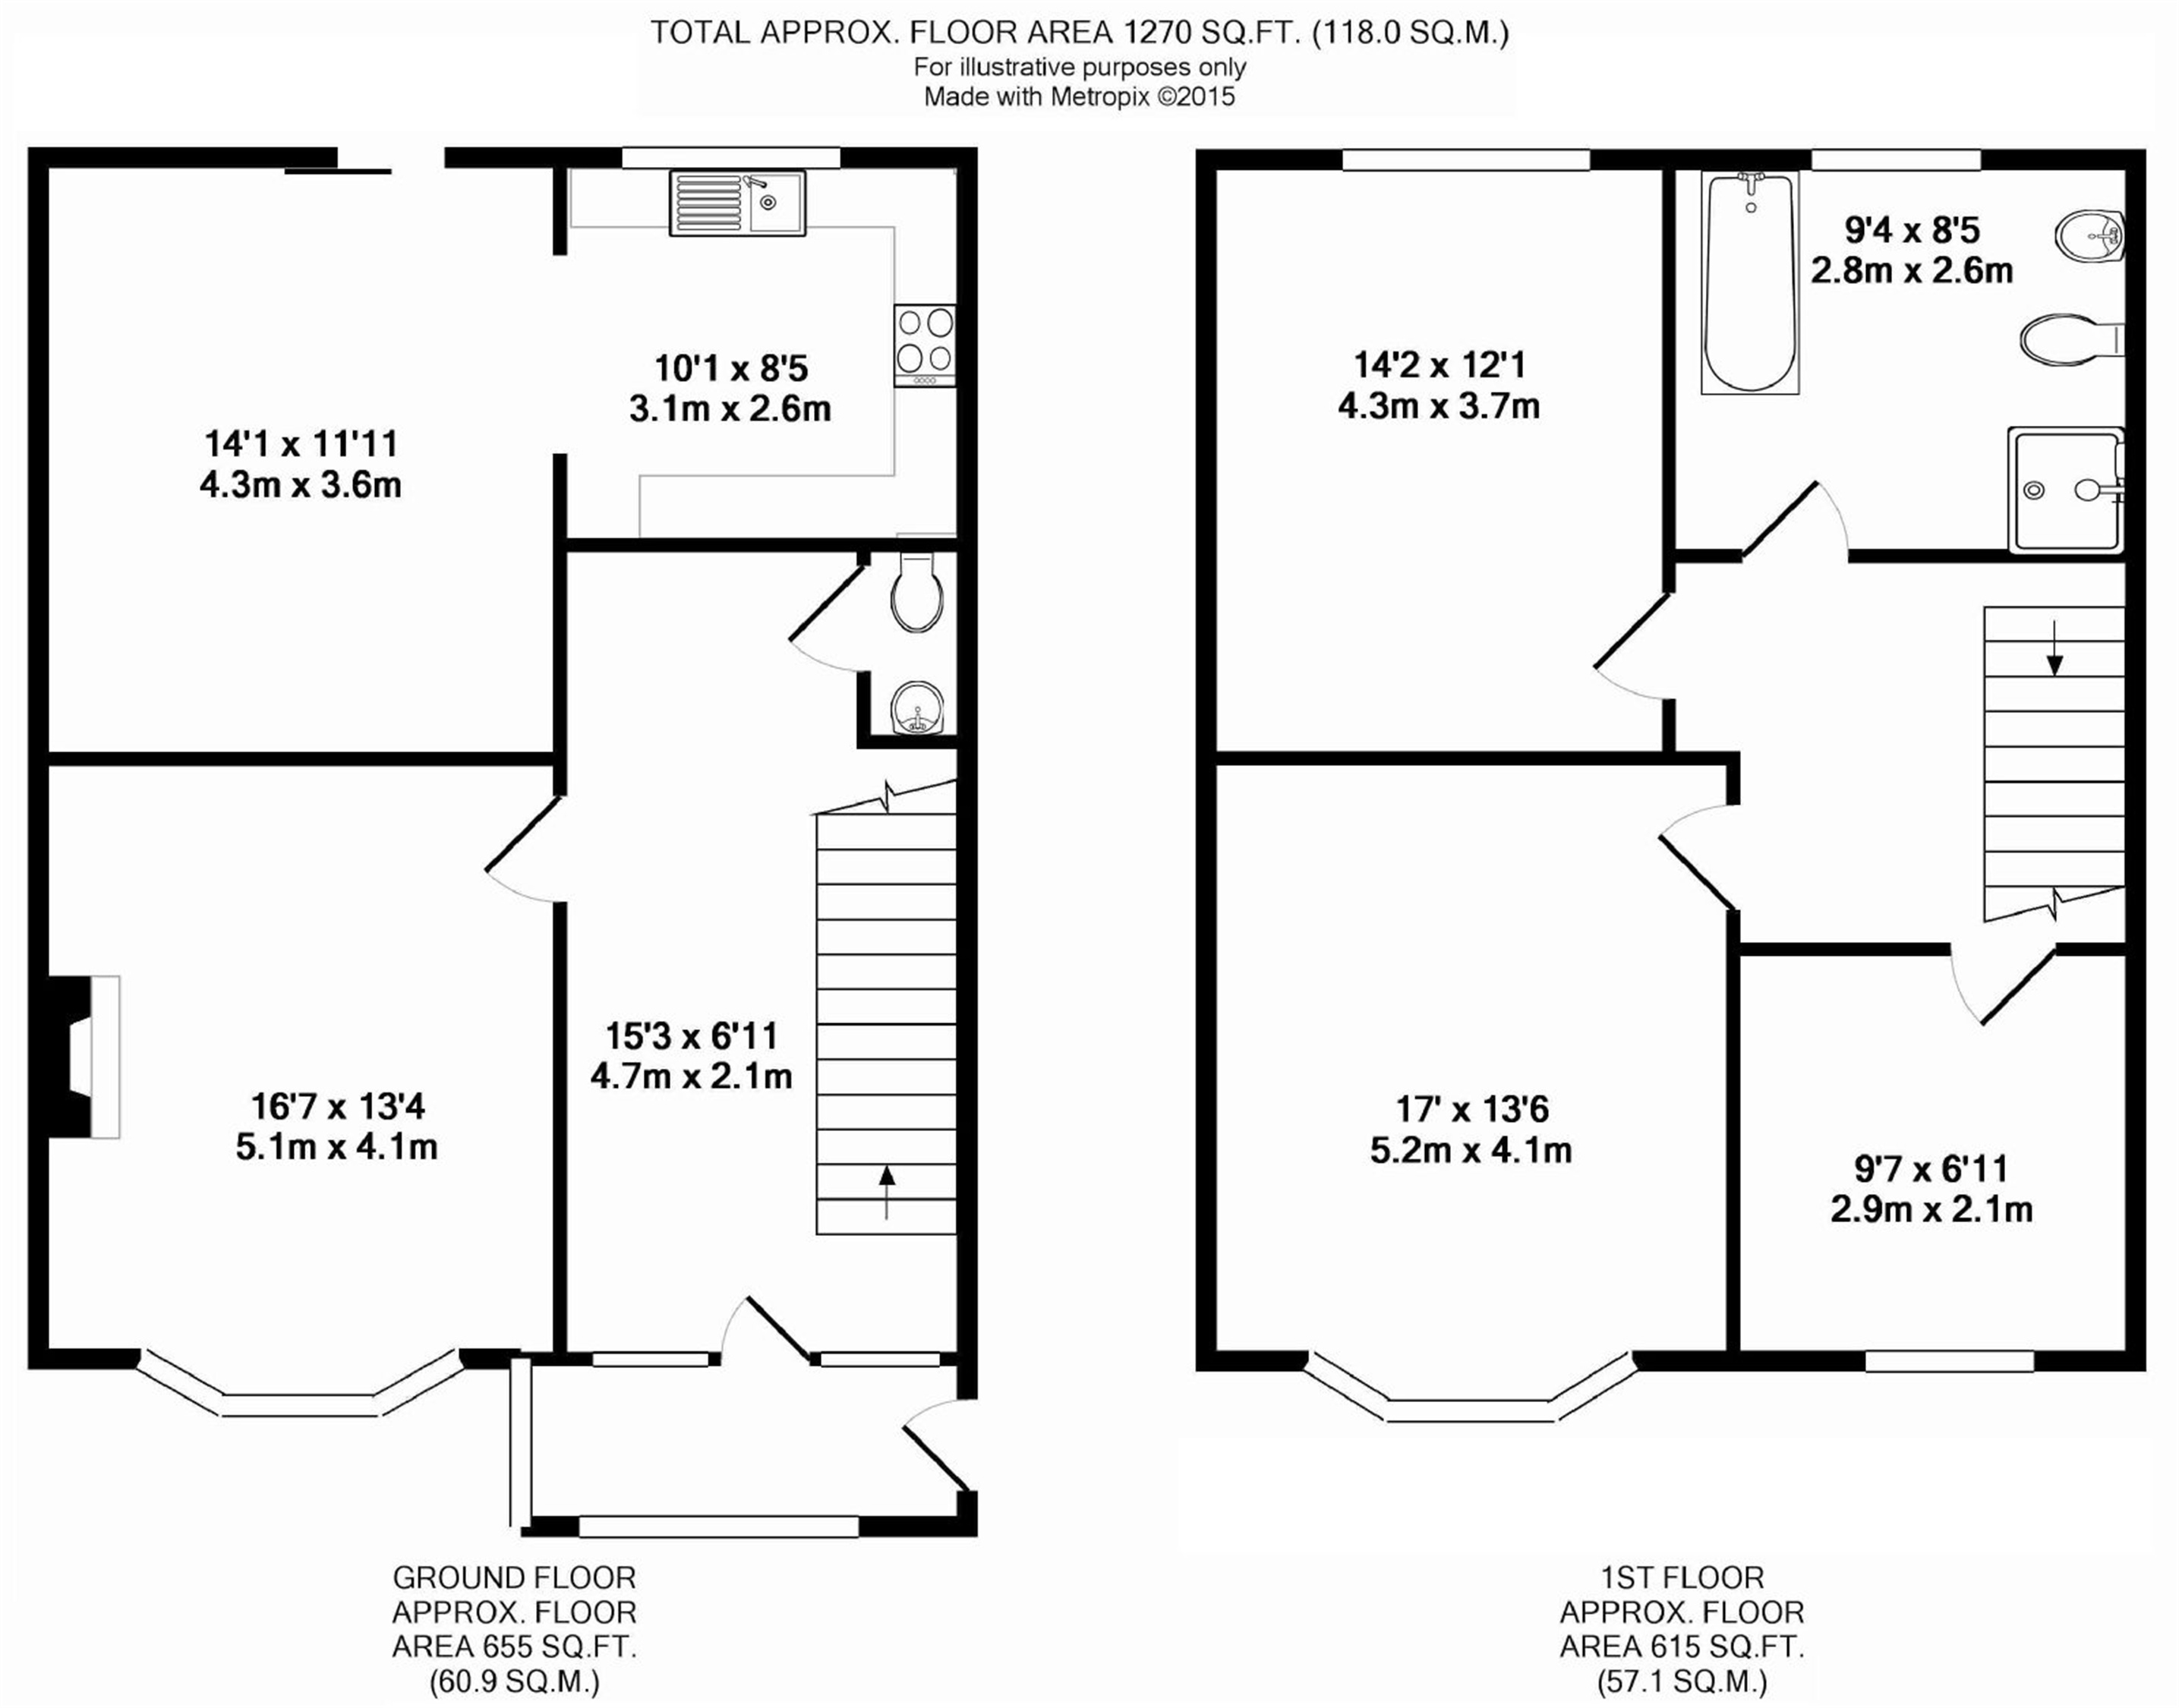door: (1737, 476, 1855, 575), (1583, 589, 1686, 700), (1946, 935, 2057, 1024), (486, 792, 575, 900), (789, 566, 875, 675), (1659, 806, 1744, 916), (715, 1289, 814, 1372)
